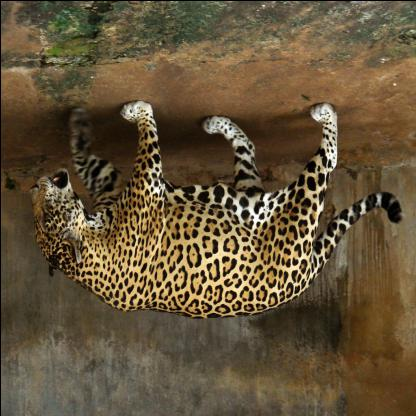leopard: (29, 150, 89, 275)
